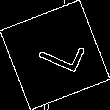L_NW: (26, 31, 84, 79)
